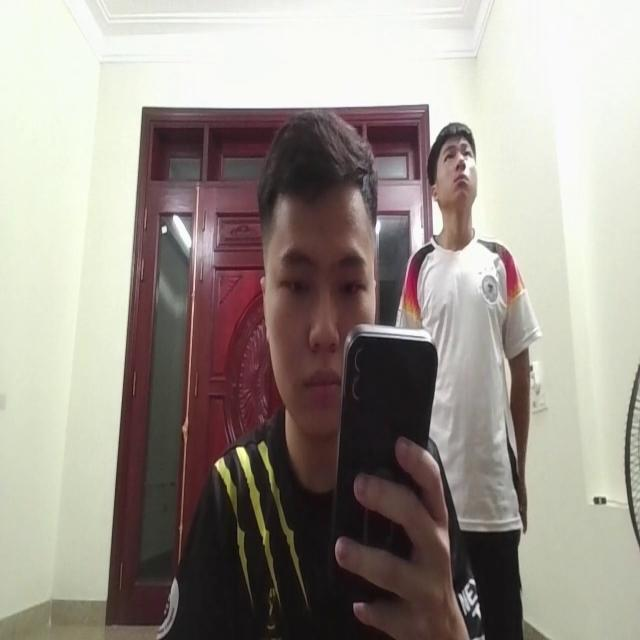extra_person: (404, 115, 530, 558)
phone: (336, 319, 437, 610)
student: (195, 99, 442, 640)
